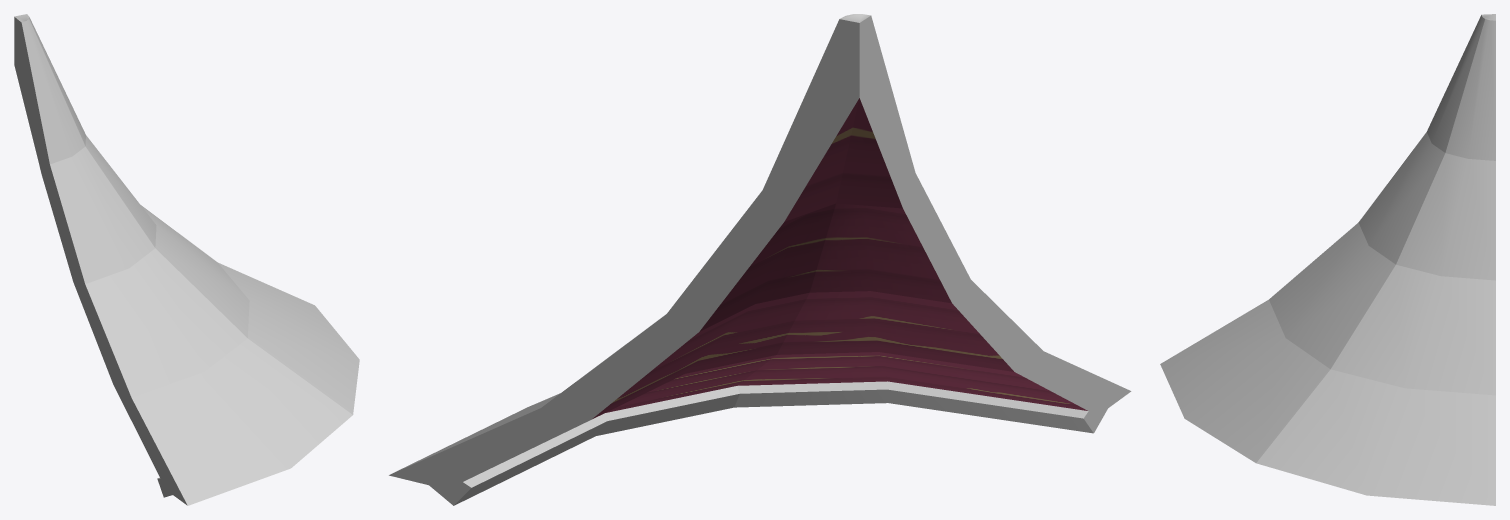
File: SM_Bld_Roof_Concave_Corner_Out_02.fbx
3 views of the same model, side by side, from view 1: azimuth 30°, elevation 25°; view 2: azimuth 150°, elevation 25°; view 3: azimuth 270°, elevation 25° (orthographic). The views are drawn at different scales.
Parts seen in each view (by area): view 1: SM_Bld_Roof_Concave_Corner_Out_02; view 2: SM_Bld_Roof_Concave_Corner_Out_02; view 3: SM_Bld_Roof_Concave_Corner_Out_02.
Part boxes in pixels (x1,y1,x2,y2): SM_Bld_Roof_Concave_Corner_Out_02: (14, 14, 359, 505); SM_Bld_Roof_Concave_Corner_Out_02: (389, 14, 1131, 505); SM_Bld_Roof_Concave_Corner_Out_02: (1160, 14, 1495, 505).
Bounding box in the file's own units: 261 × 308 × 261.
